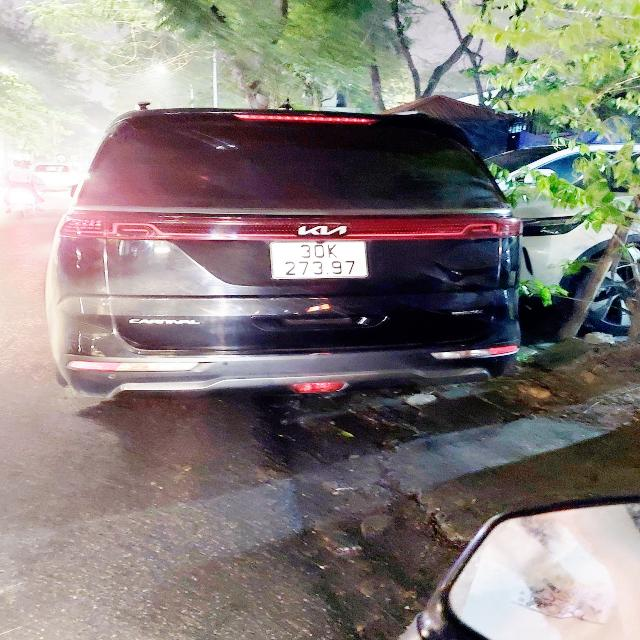license_plate: (265, 240, 371, 282)
